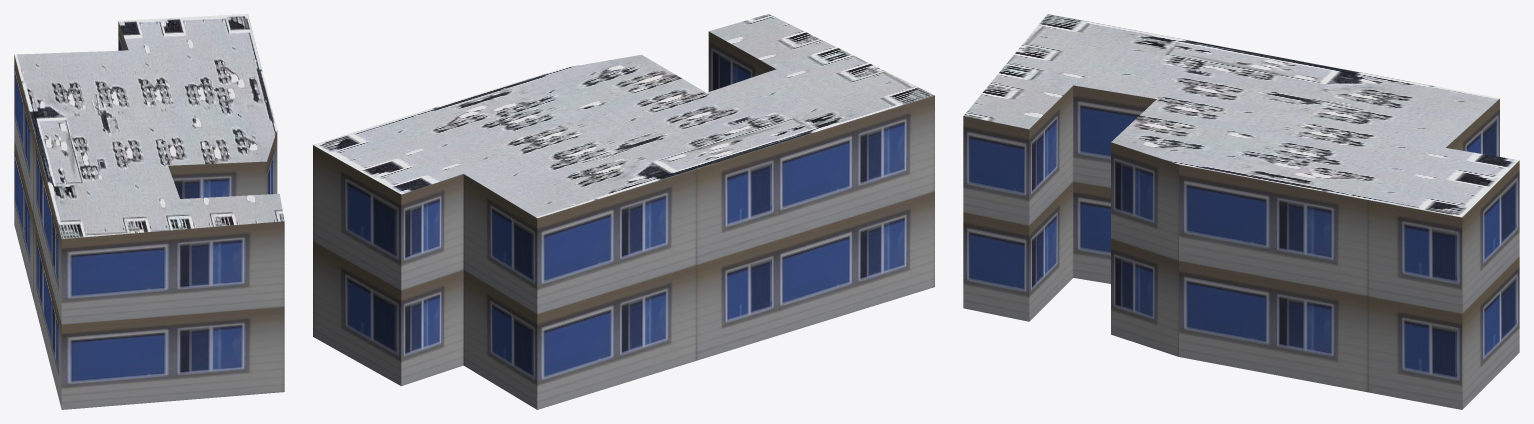
File: ResTex__2473.fbx
3 renders of one model, left to right at view 1: azimuth 30°, elevation 25°; view 2: azimuth 150°, elevation 25°; view 3: azimuth 270°, elevation 25°, orthographic. The views are drawn at different scales.
Parts seen in each view (by area): view 1: CityEngineMaterial_23_m, CityEngineMaterial_4_m; view 2: CityEngineMaterial_23_m, CityEngineMaterial_4_m; view 3: CityEngineMaterial_23_m, CityEngineMaterial_4_m.
Part boxes in pixels (x1,y1,x2,y2): CityEngineMaterial_23_m: [14, 21, 284, 409]; CityEngineMaterial_4_m: [14, 14, 284, 238]; CityEngineMaterial_23_m: [313, 31, 934, 409]; CityEngineMaterial_4_m: [313, 14, 934, 218]; CityEngineMaterial_23_m: [963, 85, 1519, 409]; CityEngineMaterial_4_m: [963, 14, 1518, 217].
Size of the model in its own units: 13.61 by 6 by 15.71.
Materials: 2 (2 with a texture image).
